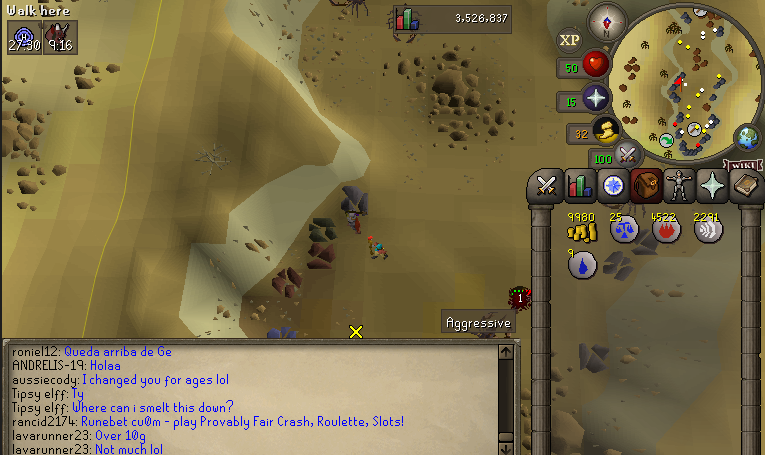depleted: (340, 184, 373, 221)
iron: (267, 265, 306, 301), (306, 240, 339, 273)
